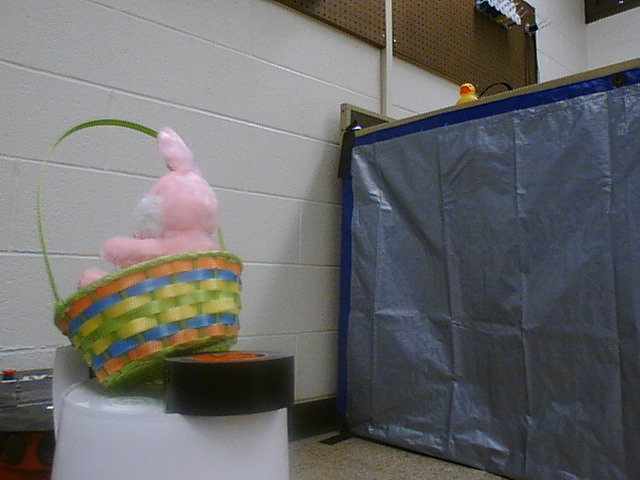bunny: (24, 113, 250, 385)
